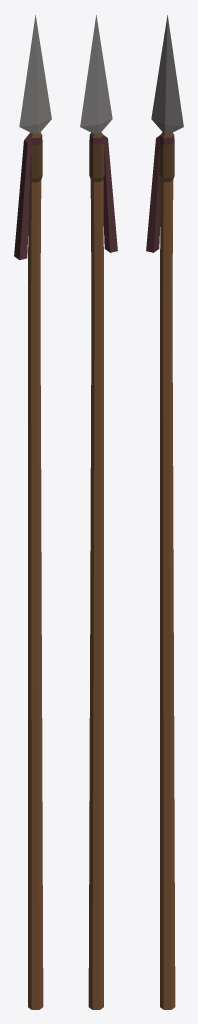
File: empire-spear-spartan-empire.glb
The picture shows the model from 3 angles, left to right: view 1: azimuth 30°, elevation 25°; view 2: azimuth 210°, elevation 25°; view 3: azimuth 330°, elevation 25°; orthographic projection.
Parts seen in each view (by area): view 1: SM_Spear_Spartan_Empire; view 2: SM_Spear_Spartan_Empire; view 3: SM_Spear_Spartan_Empire.
Boxes of the visible parts, left/top/right/bottom form: SM_Spear_Spartan_Empire: left=14, top=15, right=51, bottom=1009; SM_Spear_Spartan_Empire: left=80, top=15, right=117, bottom=1009; SM_Spear_Spartan_Empire: left=146, top=15, right=183, bottom=1009.
Bounding box in the file's own units: 0.1005 × 2.72 × 0.0381.
